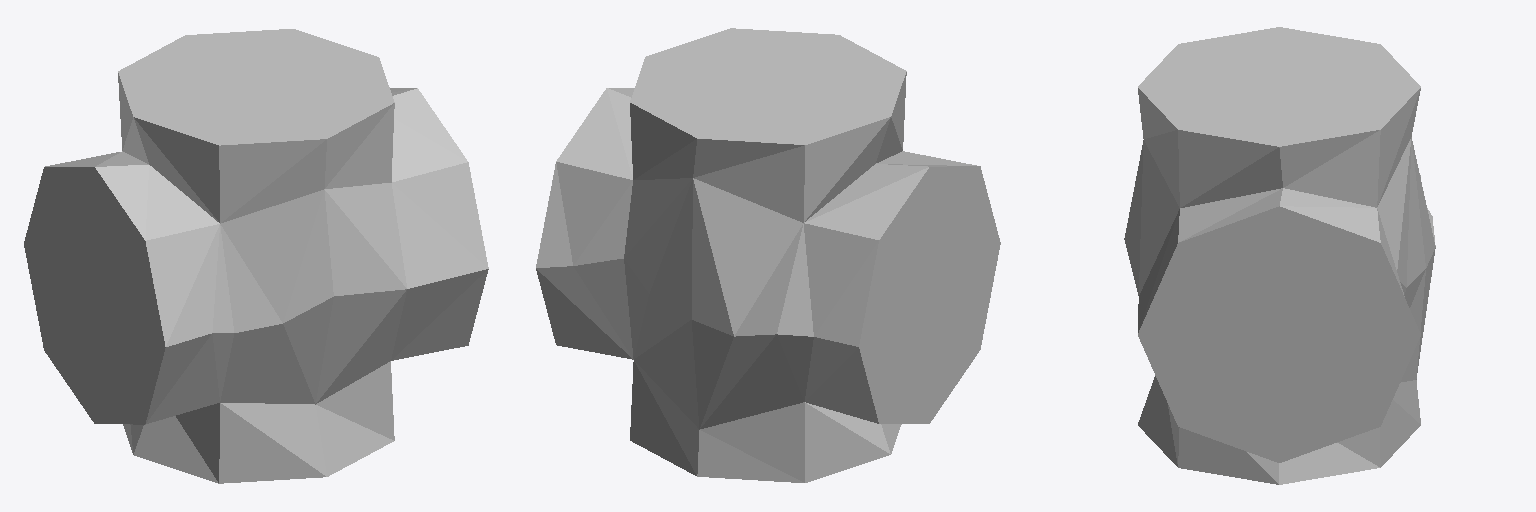
Rendered from 3 branches T.obj.
The picture shows the model from 3 angles: view 1: azimuth 30°, elevation 25°; view 2: azimuth 150°, elevation 25°; view 3: azimuth 270°, elevation 25°; orthographic projection.
Visible parts, largest first — view 1: 3_branches_(T)_Cube.023; view 2: 3_branches_(T)_Cube.023; view 3: 3_branches_(T)_Cube.023.
Part boxes in pixels (x1,y1,x2,y2): 3_branches_(T)_Cube.023: (24, 29, 488, 483); 3_branches_(T)_Cube.023: (536, 28, 1000, 482); 3_branches_(T)_Cube.023: (1124, 27, 1435, 484).
Bounding box in the file's own units: 2 × 2 × 1.67.